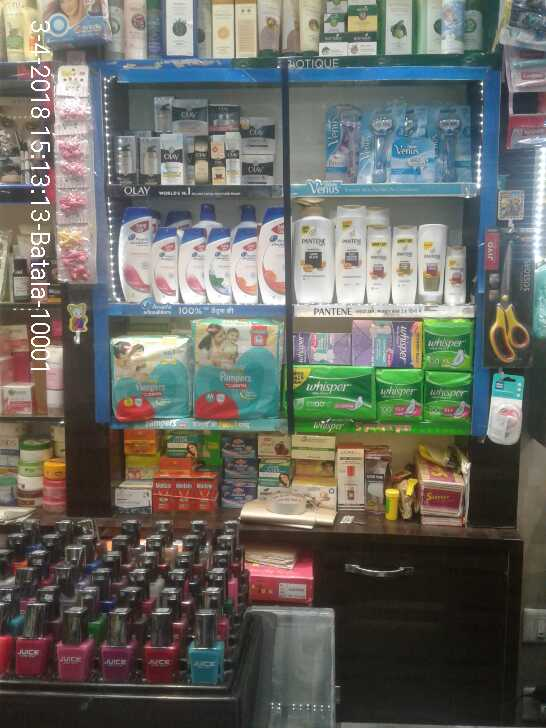venus: (436, 104, 470, 180), (361, 103, 392, 181), (327, 106, 358, 181), (395, 139, 435, 180), (406, 104, 432, 134)
